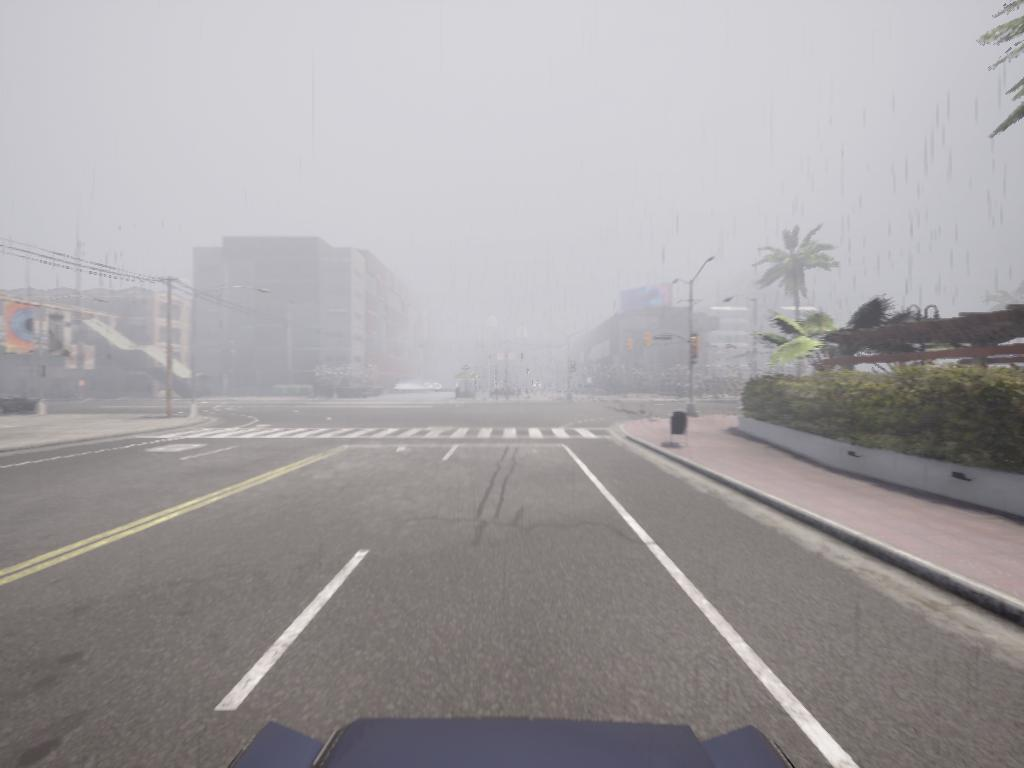traffic_light: (693, 335, 702, 355), (572, 361, 577, 374), (522, 353, 525, 360), (527, 369, 530, 376)
